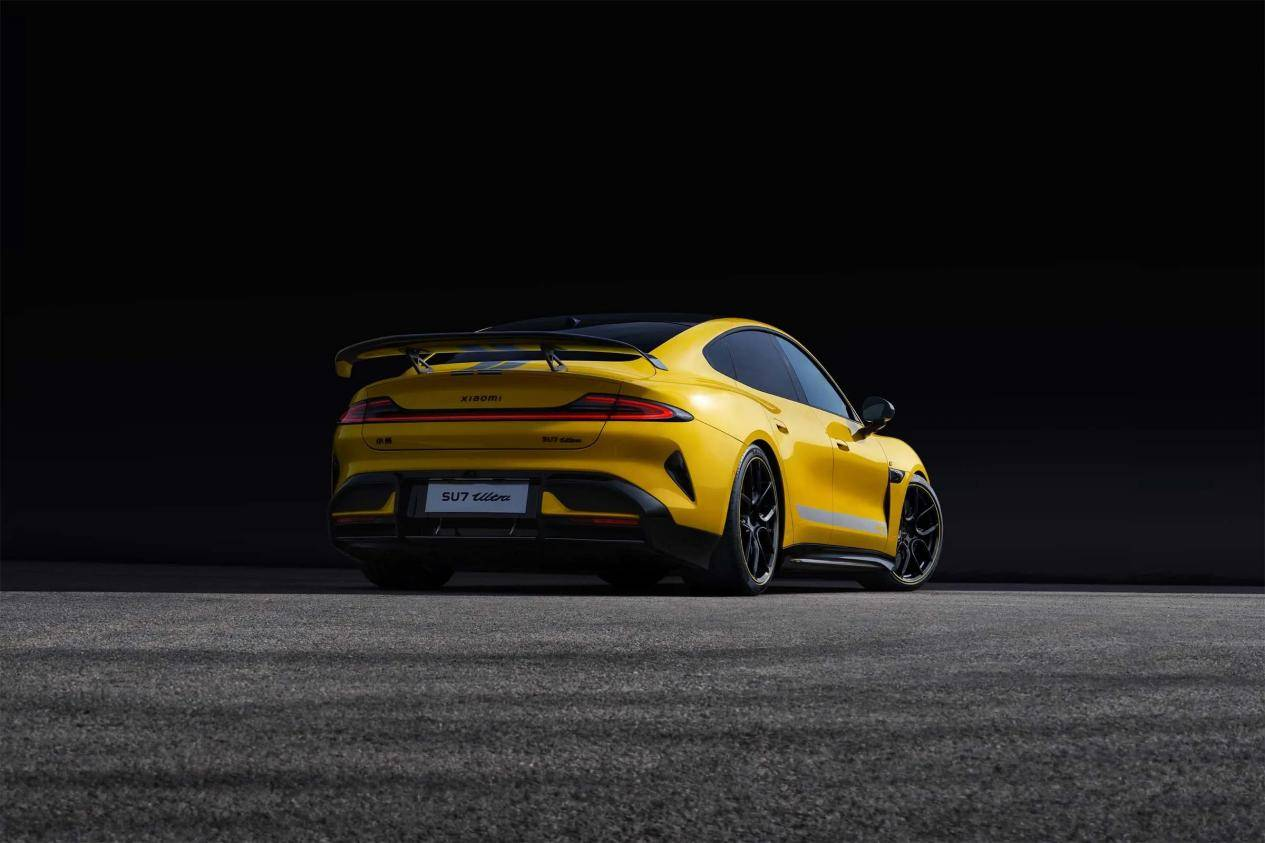su7: (327, 303, 944, 593)
